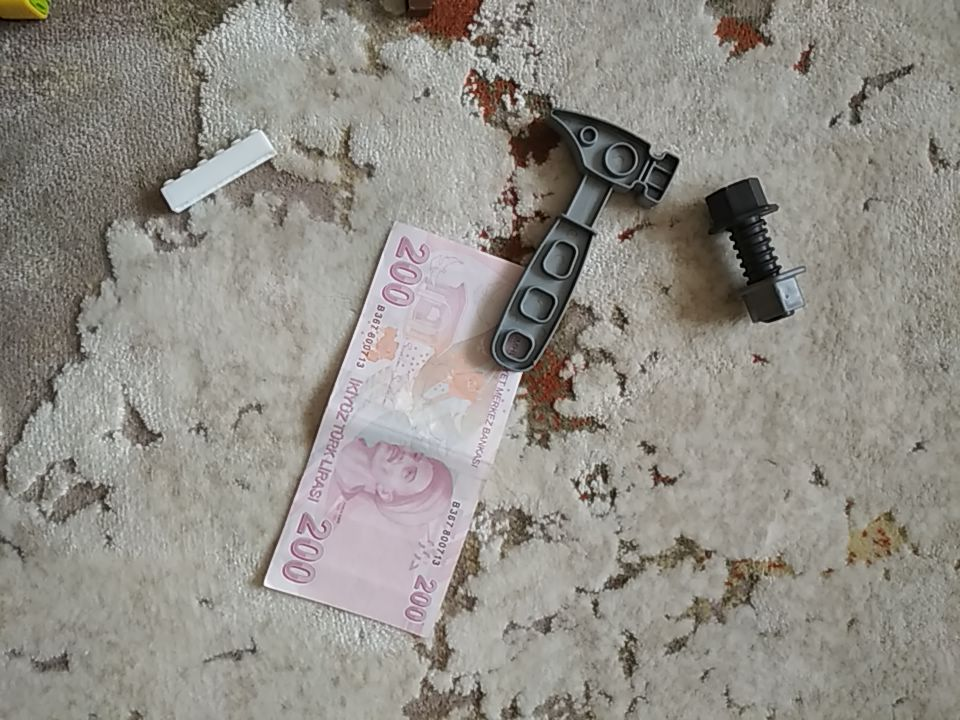200TL: (259, 219, 531, 640)
